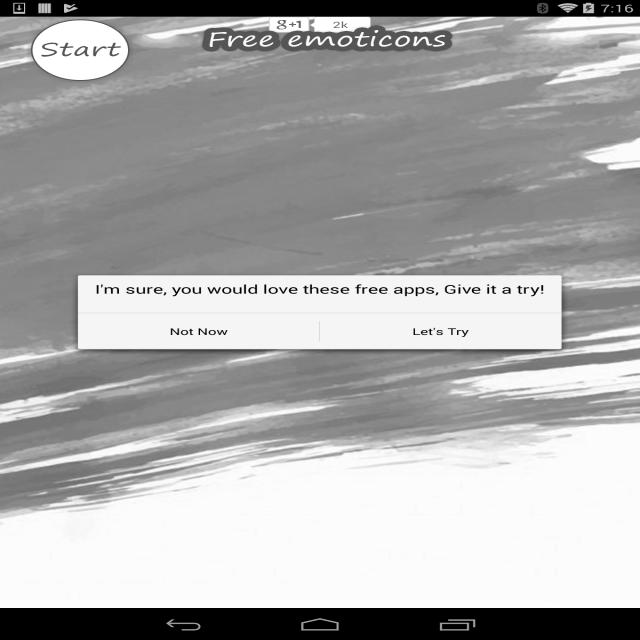TextView: (88, 278, 554, 298), (203, 28, 455, 52), (39, 37, 122, 59), (411, 322, 473, 342), (167, 321, 230, 339)
